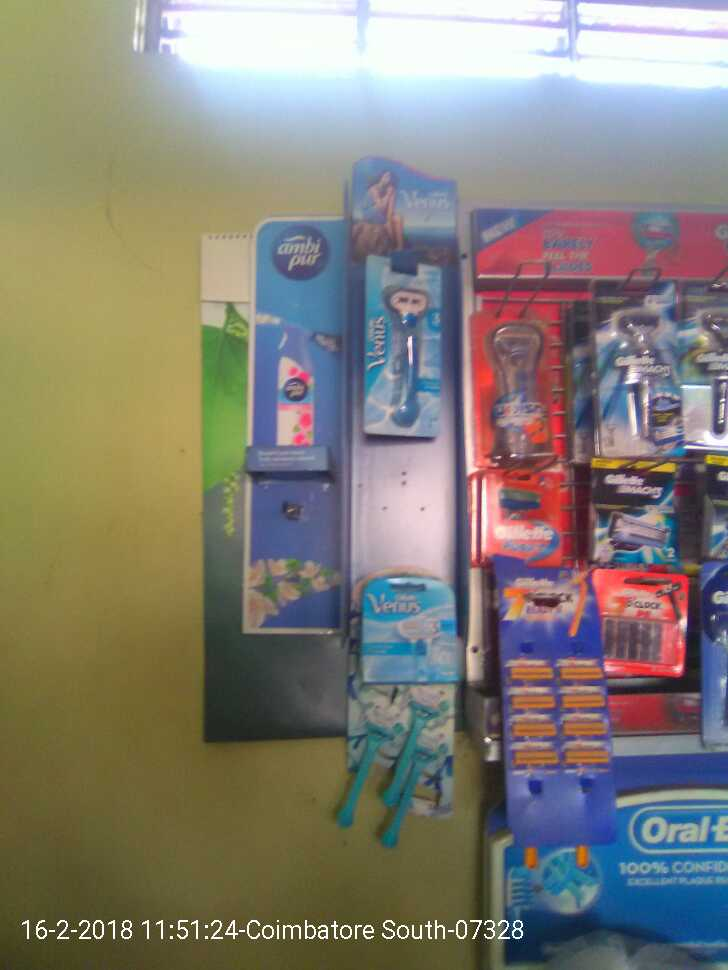beauty: (473, 298, 565, 471), (584, 303, 681, 456), (351, 578, 468, 694), (366, 263, 439, 441), (584, 475, 684, 568), (476, 475, 568, 562)
